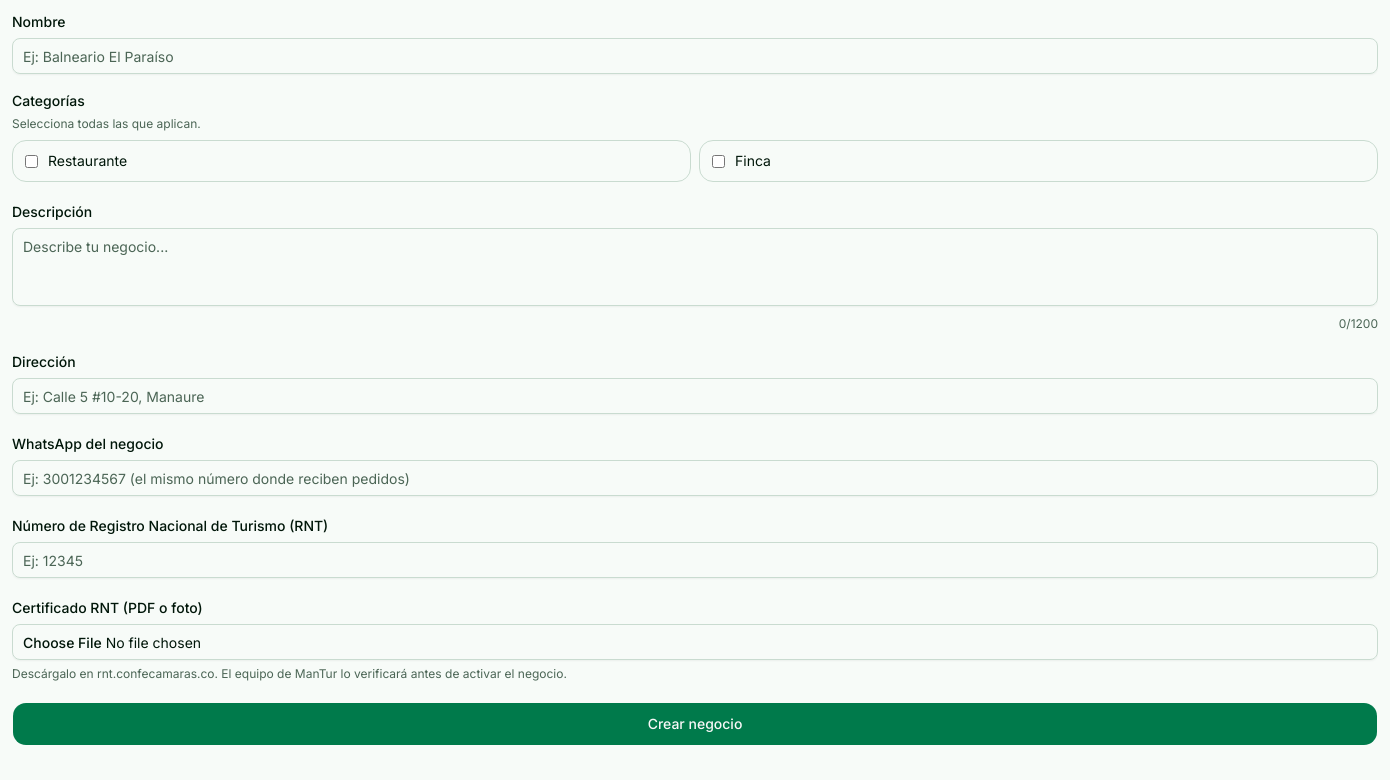
Scenario: CreateBusinessForm › disables the submit button and shows the pending label while the action is in flight
Type "Finca X" into the field labelled "Nombre" at (695, 56), box [12,38,1378,74]
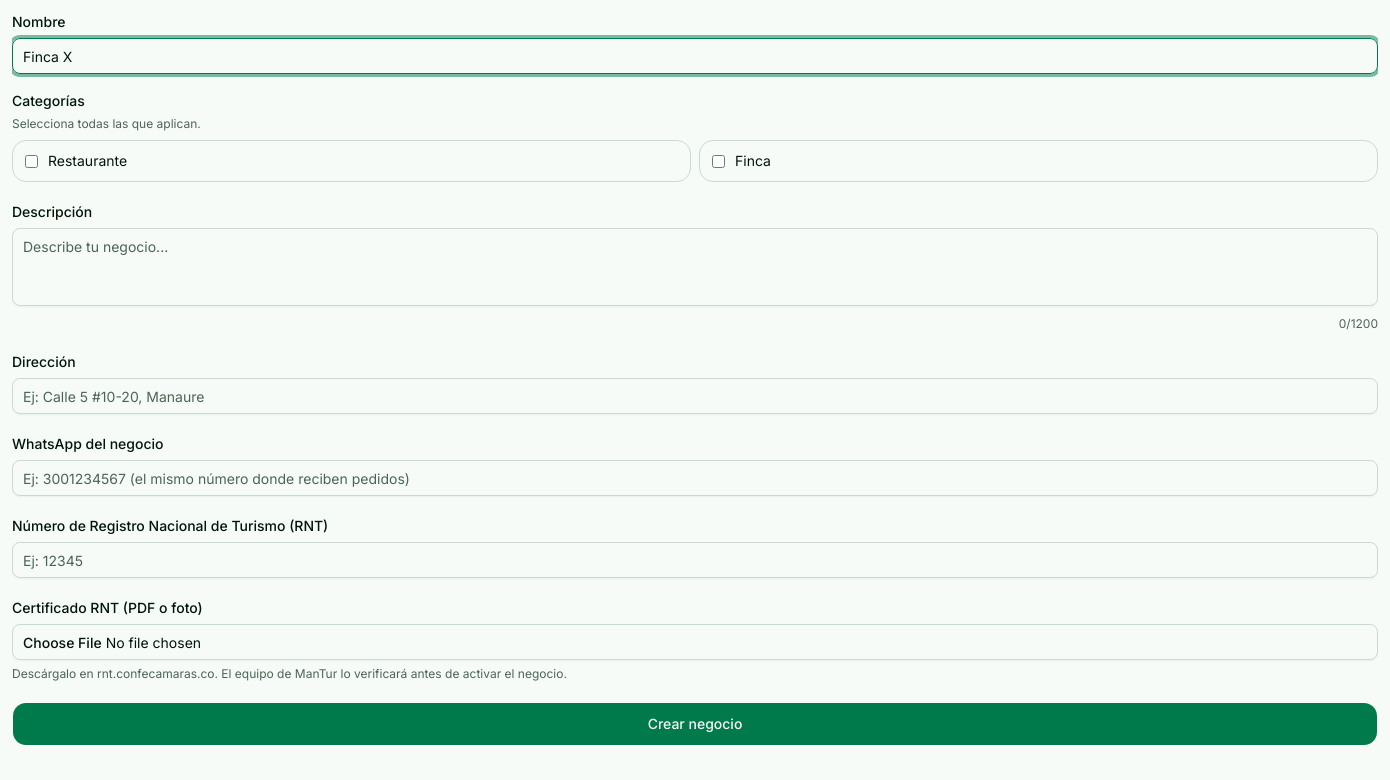
Click the button "Crear negocio" at (695, 724), box [12,702,1378,746]
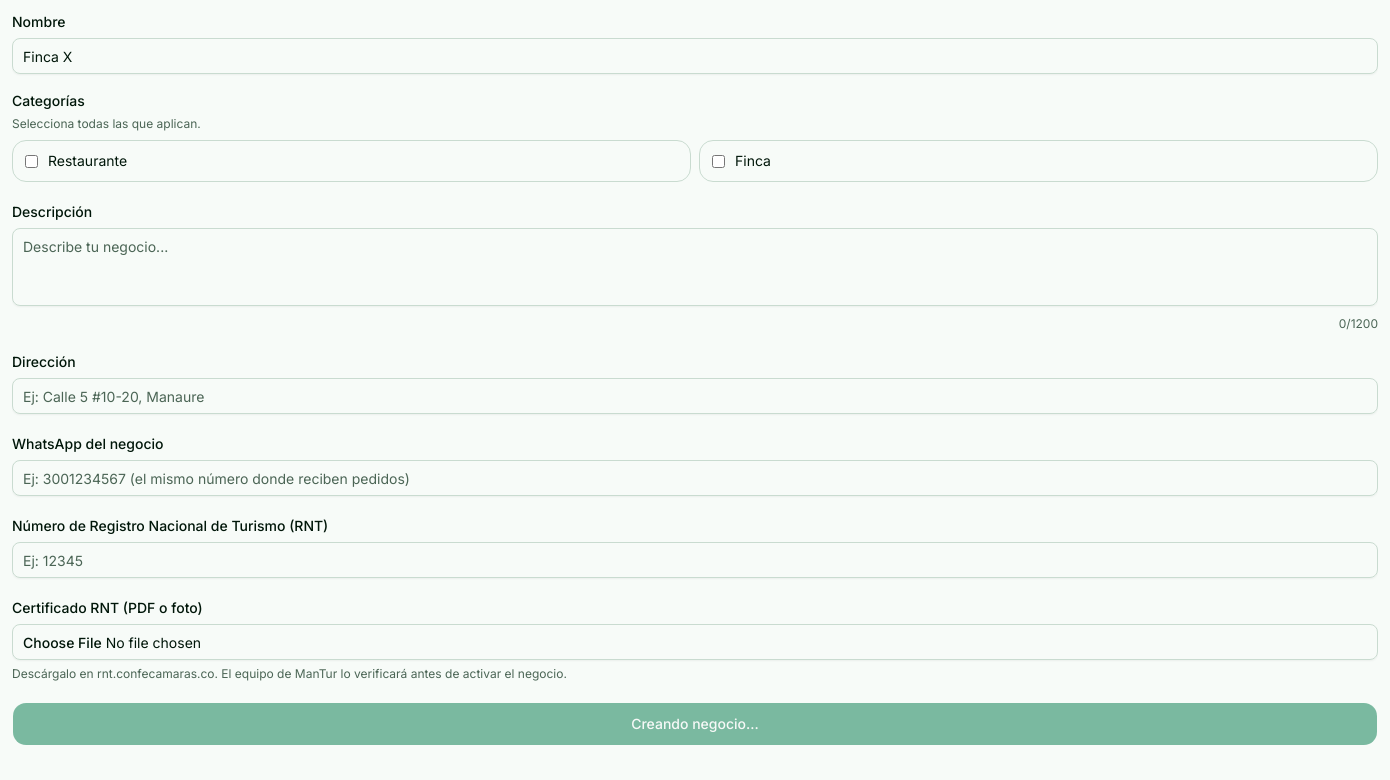
Expected: the button "Creando negocio..." is disabled, [12,702,1378,746]
